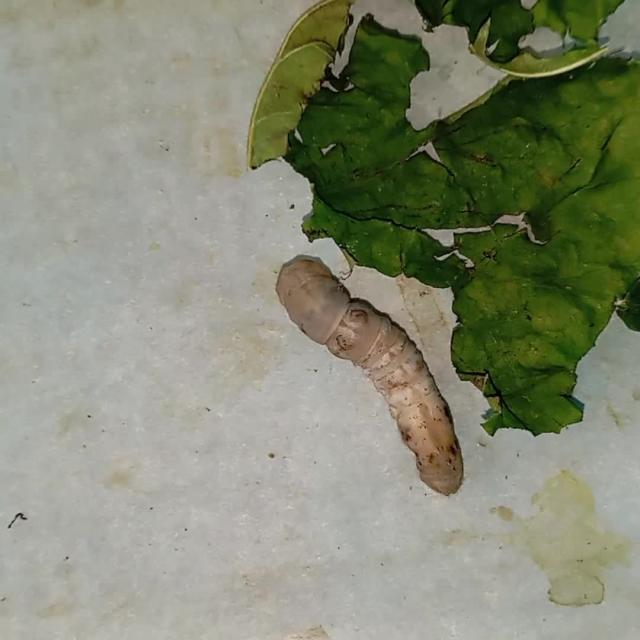Grasserie: (267, 248, 469, 498)
